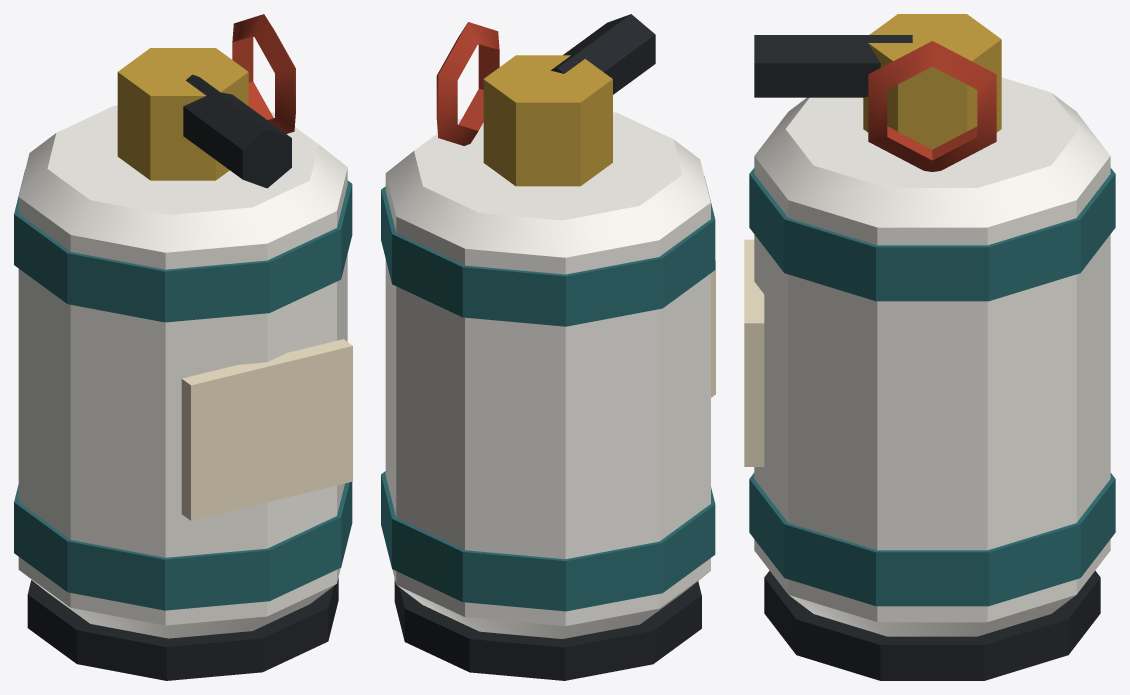
Rendered from Throwable_FoamGrenade.fbx.
3 views of the same model, side by side, from view 1: azimuth 30°, elevation 25°; view 2: azimuth 150°, elevation 25°; view 3: azimuth 270°, elevation 25° (orthographic). The views are drawn at different scales.
Visible parts, largest first — view 1: Foam; view 2: Foam; view 3: Foam.
Boxes of the visible parts, x1,y1,x2,y2 form: Foam: (14, 14, 352, 680); Foam: (381, 14, 715, 680); Foam: (744, 14, 1115, 680).
Bounding box in the file's own units: 0.3519 × 0.685 × 0.375.
